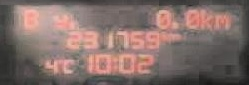-: (168, 20, 177, 27), (67, 21, 73, 27)
0: (117, 53, 133, 72), (94, 52, 109, 72), (154, 9, 169, 29), (184, 8, 199, 27)
1: (85, 53, 92, 72), (105, 31, 112, 47)
2: (133, 52, 152, 72), (64, 30, 79, 47)
3: (82, 30, 95, 47)
4: (44, 58, 55, 72)
5: (128, 30, 142, 47)
7: (113, 30, 127, 46)
9: (144, 30, 159, 47)
X: (22, 9, 38, 29), (212, 12, 228, 27), (199, 9, 210, 29), (60, 57, 74, 72), (52, 13, 67, 27), (110, 56, 115, 68)
